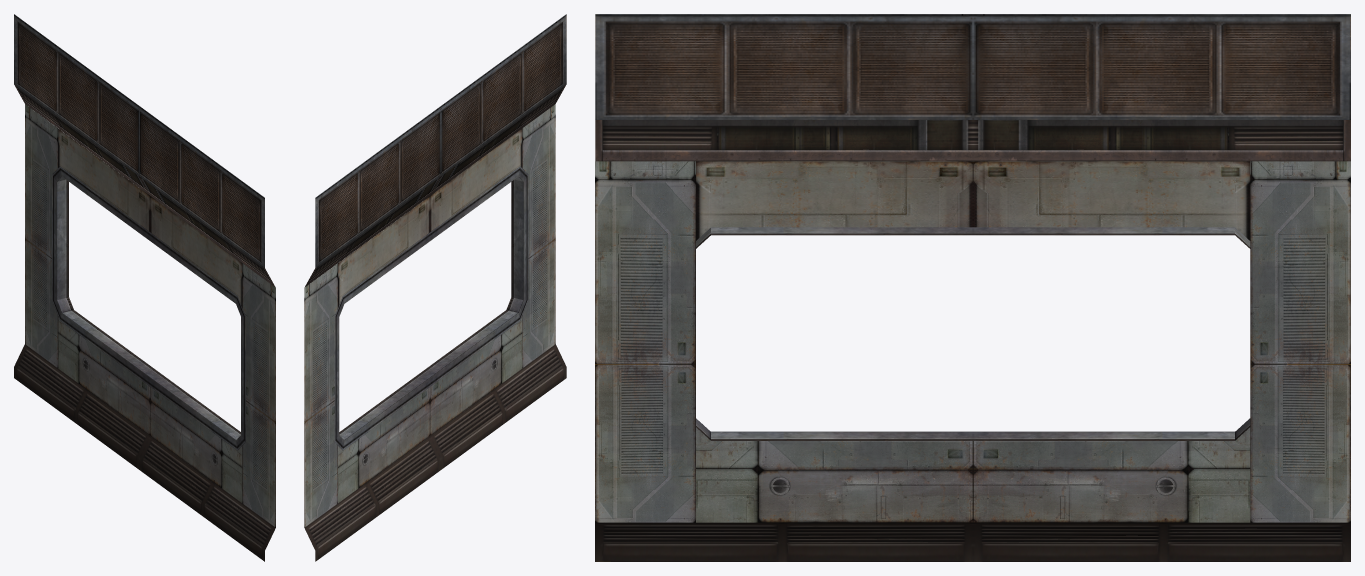
The model's file is Wall_High_new03.fbx.
The picture shows the model from 3 angles, left to right: view 1: azimuth 30°, elevation 25°; view 2: azimuth 150°, elevation 25°; view 3: azimuth 270°, elevation 25°; orthographic projection. The views are drawn at different scales.
Visible parts, largest first — view 1: Wall_High_new03; view 2: Wall_High_new03; view 3: Wall_High_new03.
Boxes of the visible parts, bbox=[...] form: Wall_High_new03: bbox=[14, 14, 275, 561]; Wall_High_new03: bbox=[304, 14, 566, 561]; Wall_High_new03: bbox=[595, 14, 1350, 561].
Size of the model in its own units: 25 by 400 by 500.
